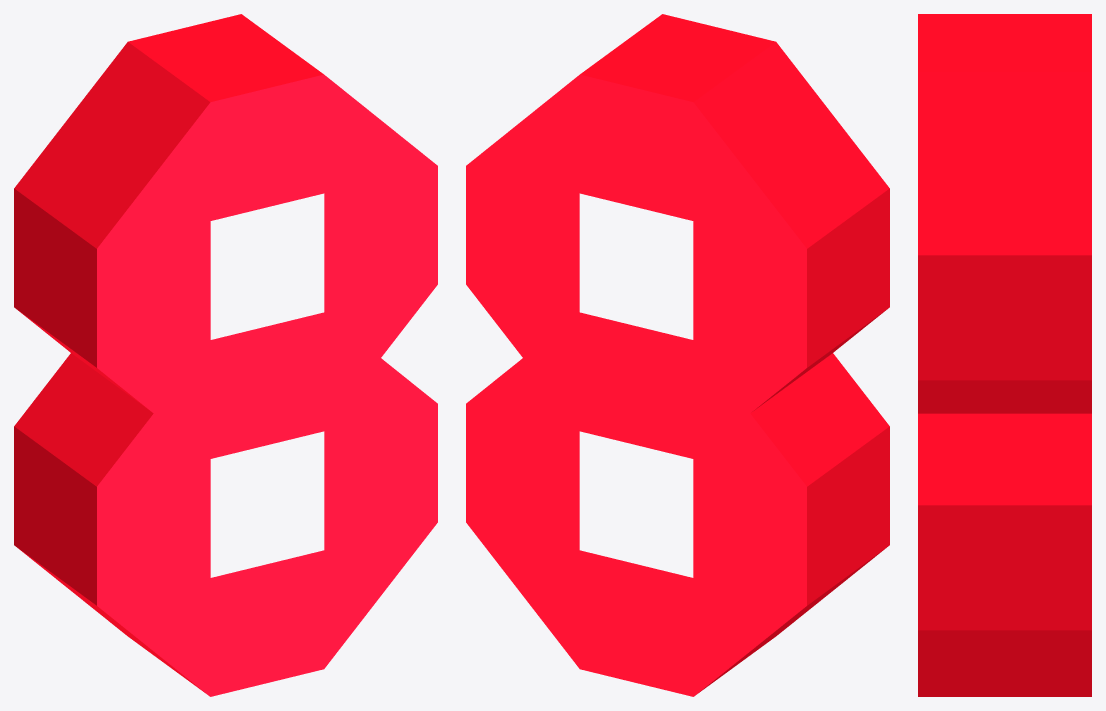
The picture shows the model from 3 angles, left to right: view 1: azimuth 30°, elevation 25°; view 2: azimuth 150°, elevation 25°; view 3: azimuth 270°, elevation 25°; orthographic projection. The views are drawn at different scales.
Visible parts, largest first — view 1: 8_DeltaBlock_Red; view 2: 8_DeltaBlock_Red; view 3: 8_DeltaBlock_Red.
Boxes of the visible parts, x1,y1,x2,y2 form: 8_DeltaBlock_Red: [14, 14, 437, 696]; 8_DeltaBlock_Red: [466, 14, 889, 696]; 8_DeltaBlock_Red: [918, 14, 1091, 696].
Size of what is drawn, in the model's own units: 0.1071 by 0.1786 by 0.045.
2 materials, 2 textured.
